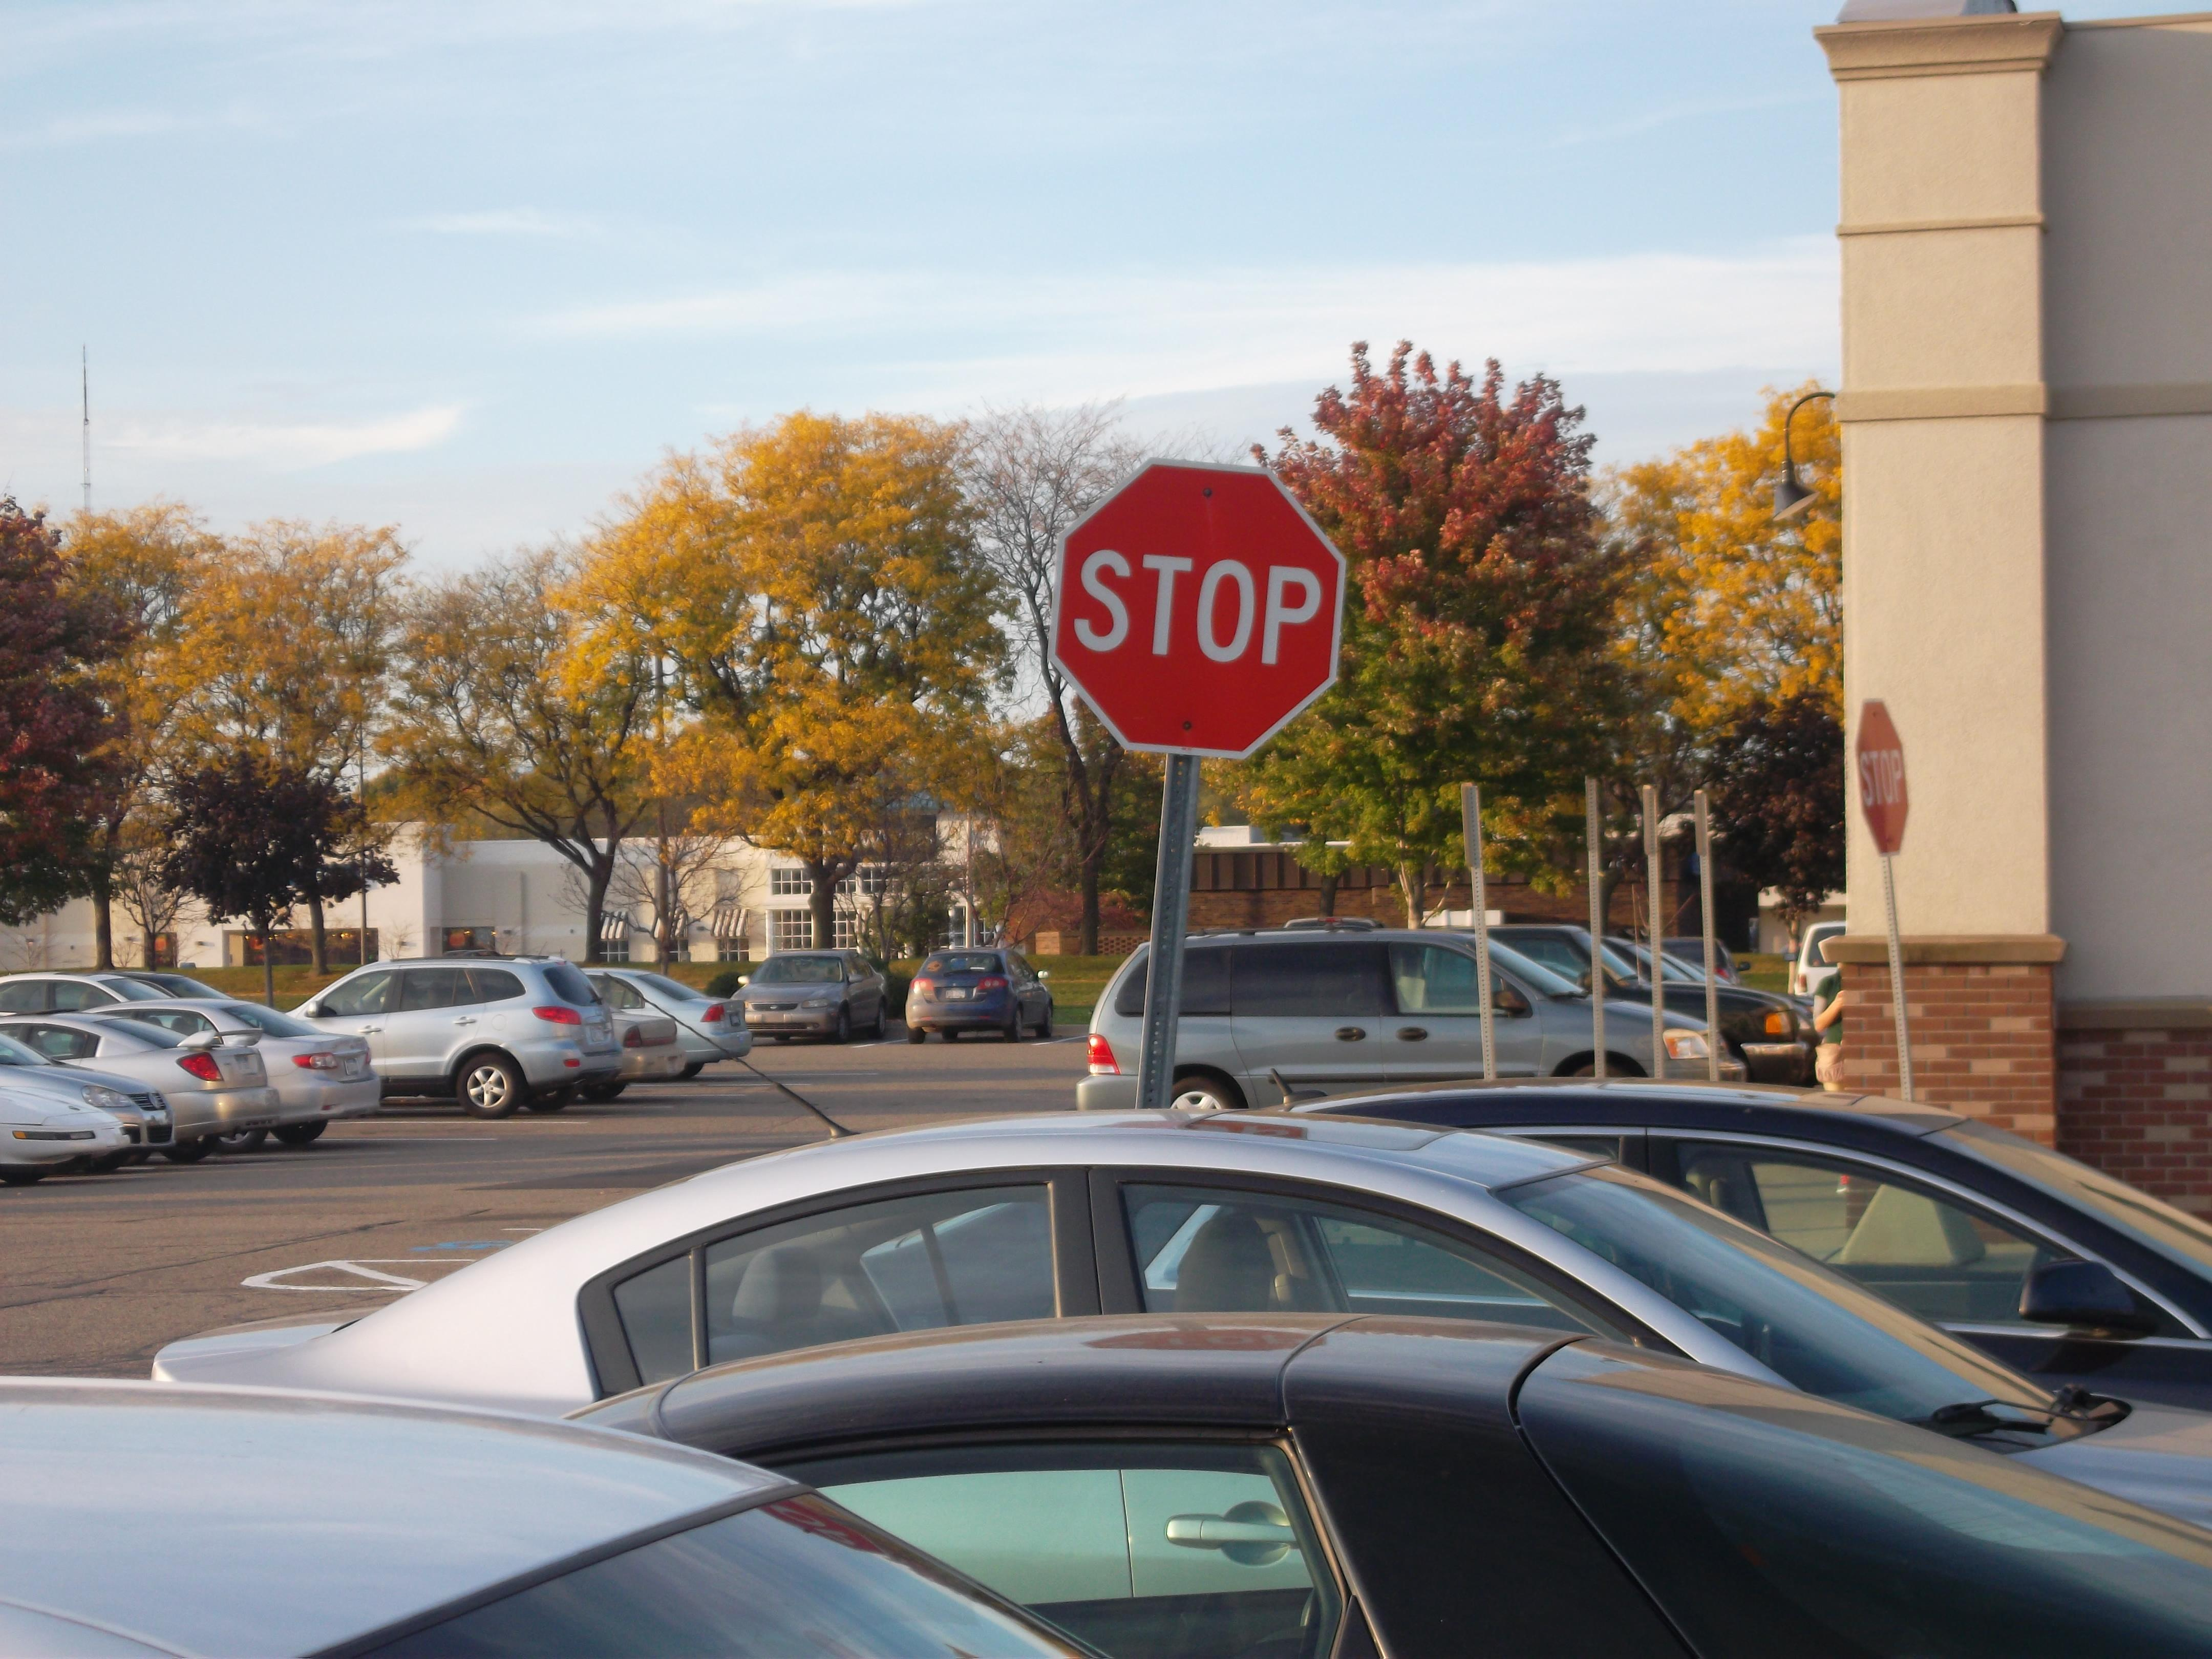stop: (1040, 439, 1360, 775), (1815, 678, 1937, 871)
